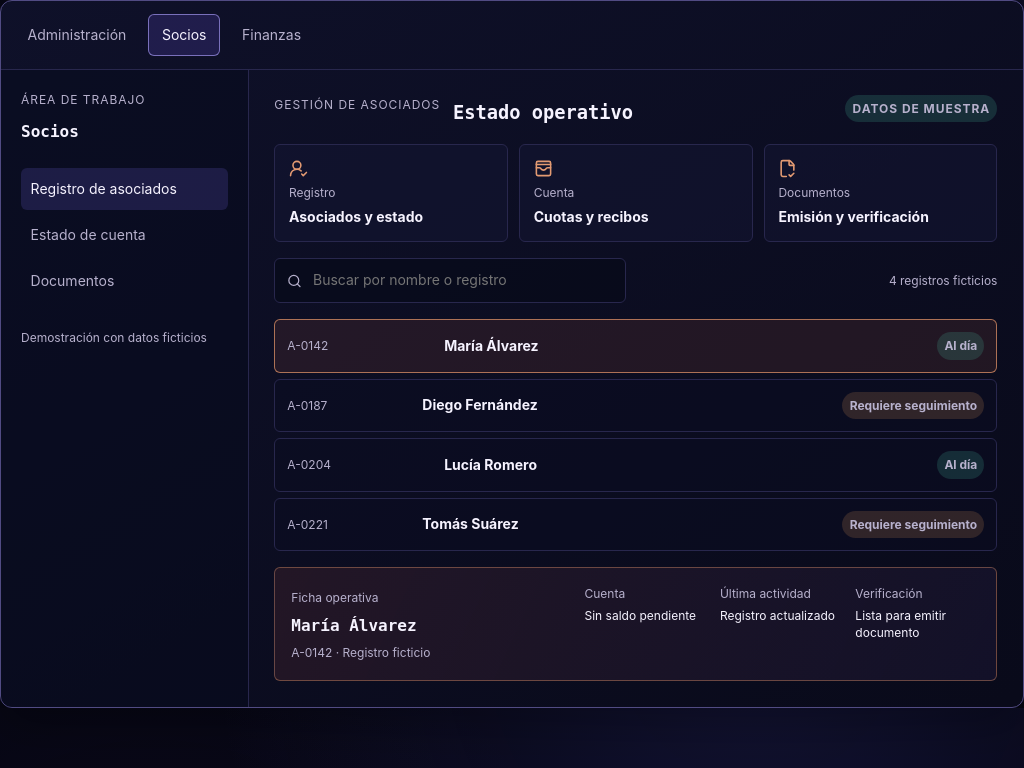
MemberOperationsDemo › changes the visible fictional workspace when an operational role is selected
The image size is (1024, 768).
Click the button "Finanzas".
click(272, 35)  # box [228,14,315,56]
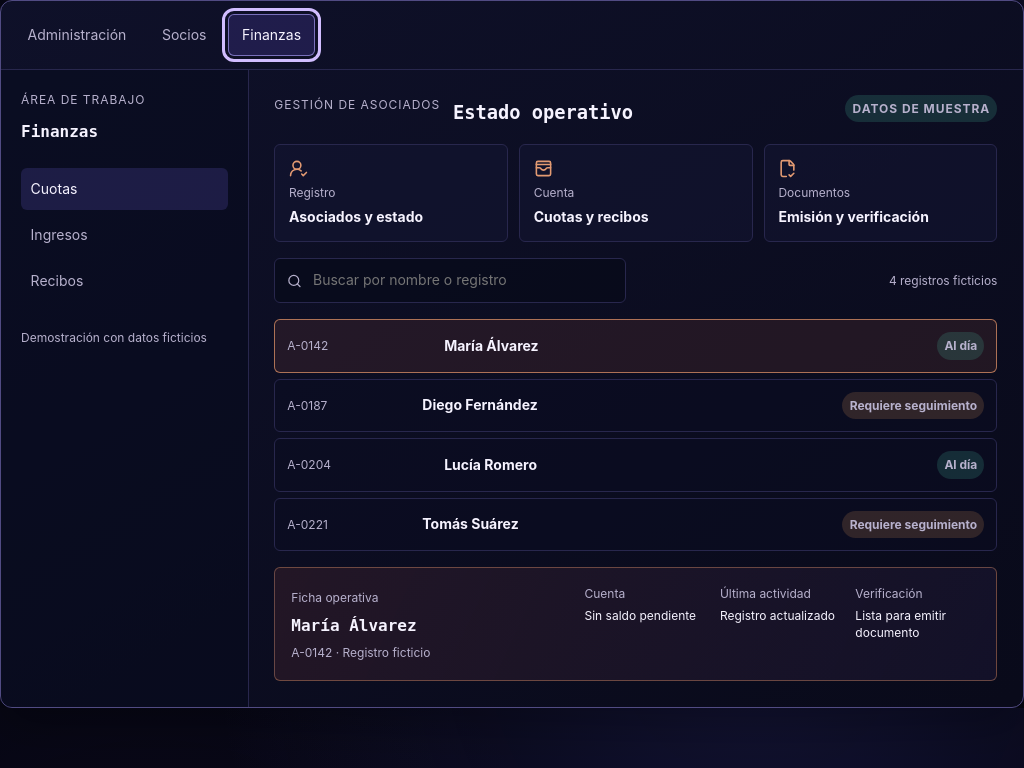
Now the navigation bar named "Fictional Finanzas tools" is shown, box [21,168,228,302]
Now the button "Cuotas" is shown, box [21,168,228,210]
